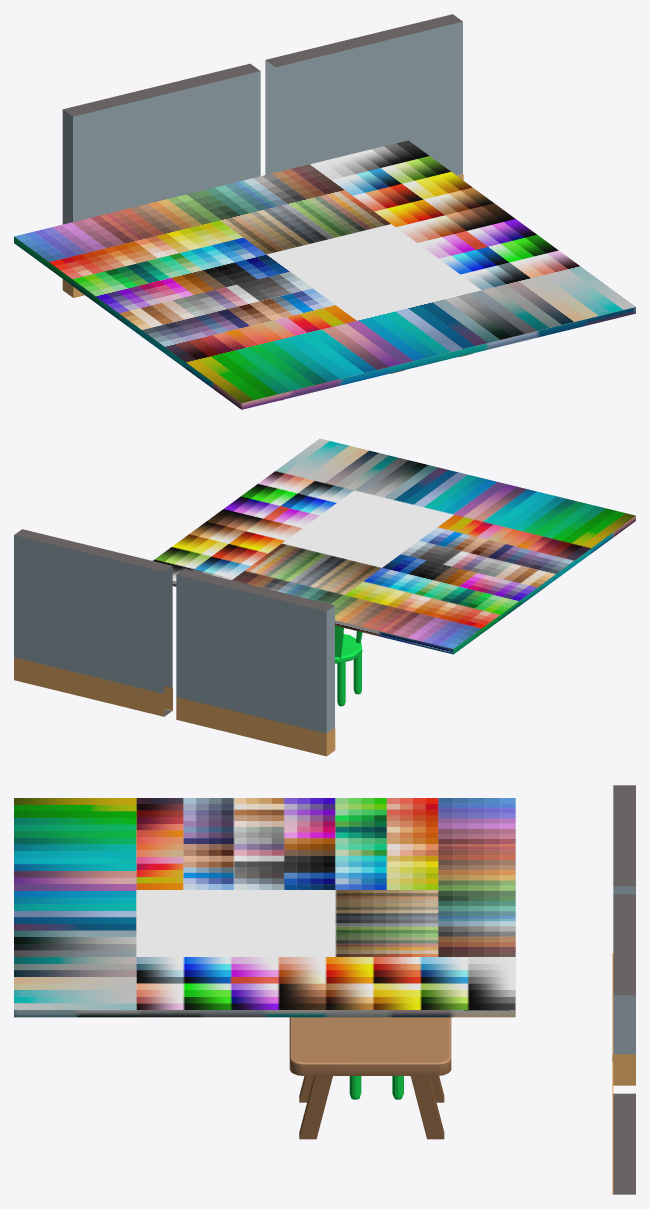
Rendered from Art.fbx.
The picture shows the model from 3 angles, top to bottom: view 1: azimuth 30°, elevation 25°; view 2: azimuth 150°, elevation 25°; view 3: azimuth 270°, elevation 25°; orthographic projection. The views are drawn at different scales.
Visible parts, largest first — view 1: pCube1, Wall1, Wall; view 2: pCube1, Wall, Wall1, Chair; view 3: pCube1, Table, Wall1, Wall.
Boxes of the visible parts, x1,y1,x2,y2 form: pCube1: (14,140,635,409); Wall1: (265,14,463,180); Wall: (62,63,260,297); pCube1: (153,438,635,654); Wall: (176,568,335,756); Wall1: (14,529,172,716); Chair: (335,625,362,706); pCube1: (14,798,515,1017); Table: (289,1017,451,1139); Wall1: (612,894,635,1194); Wall: (612,785,635,1085).
Size of the model in its own units: 457 by 192 by 453.
Materials: 1 (1 with a texture image).
